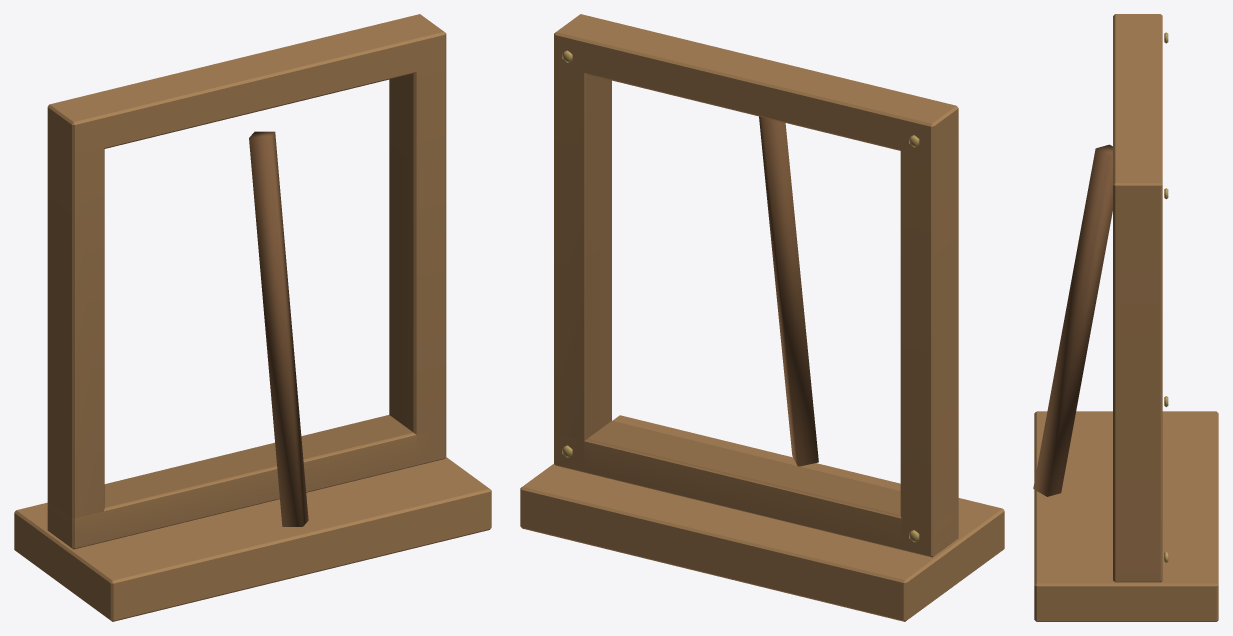
File: frame_low.glb
The picture shows the model from 3 angles, left to right: view 1: azimuth 30°, elevation 25°; view 2: azimuth 150°, elevation 25°; view 3: azimuth 270°, elevation 25°; orthographic projection. The views are drawn at different scales.
Size of the model in its own units: 0.29 by 0.3405 by 0.1309.
